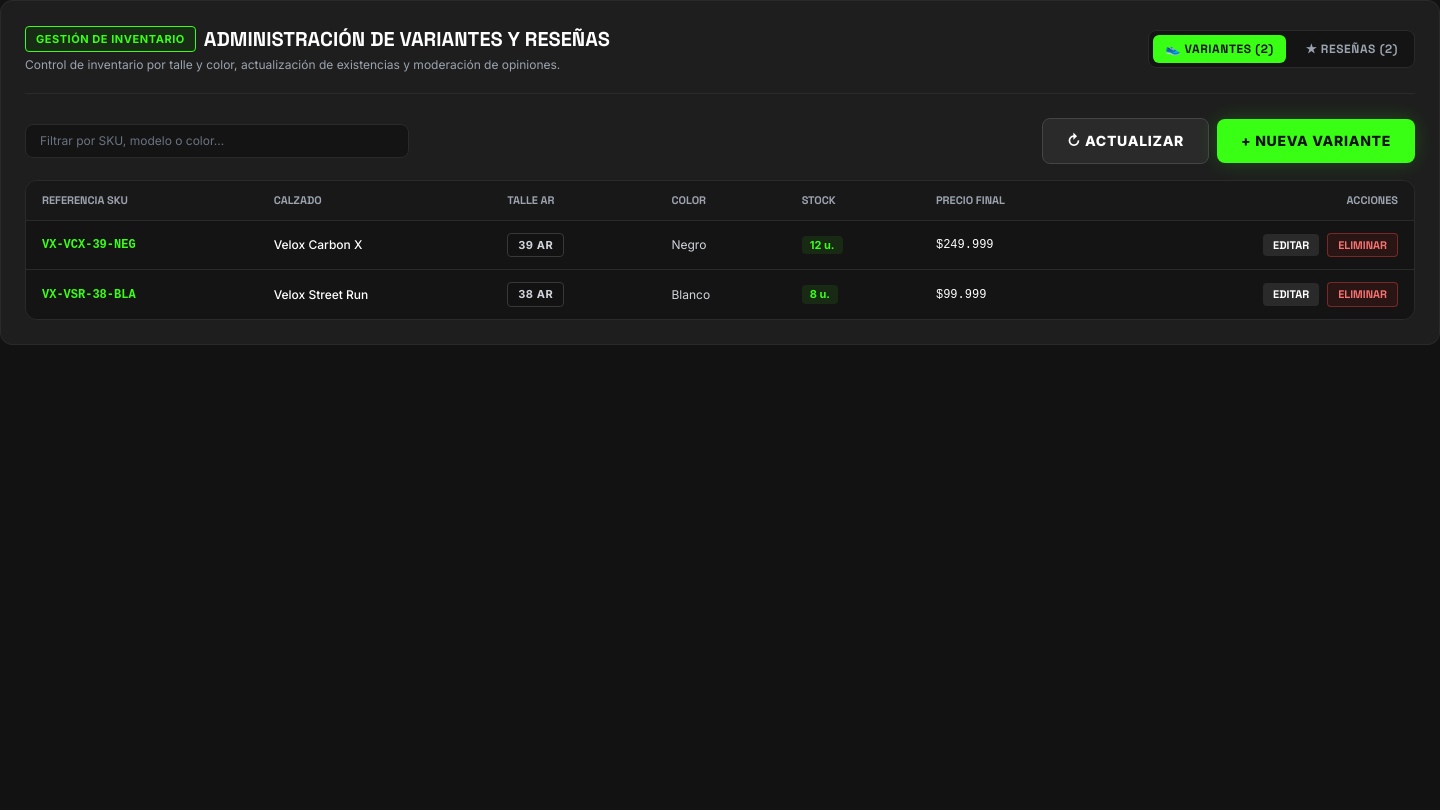
Test case: DashboardCrudManager - Gestión de Inventario y Reseñas › 3. Abre modal de alta y registra una nueva variante
The width and height of the screenshot is (1440, 810).
Expected: the text "VX-VCX-39-NEG" is shown, [26,220,258,270]
Click the button "+ NUEVA VARIANTE". click: coordinates (1316, 141)
box: [1217,119,1415,163]
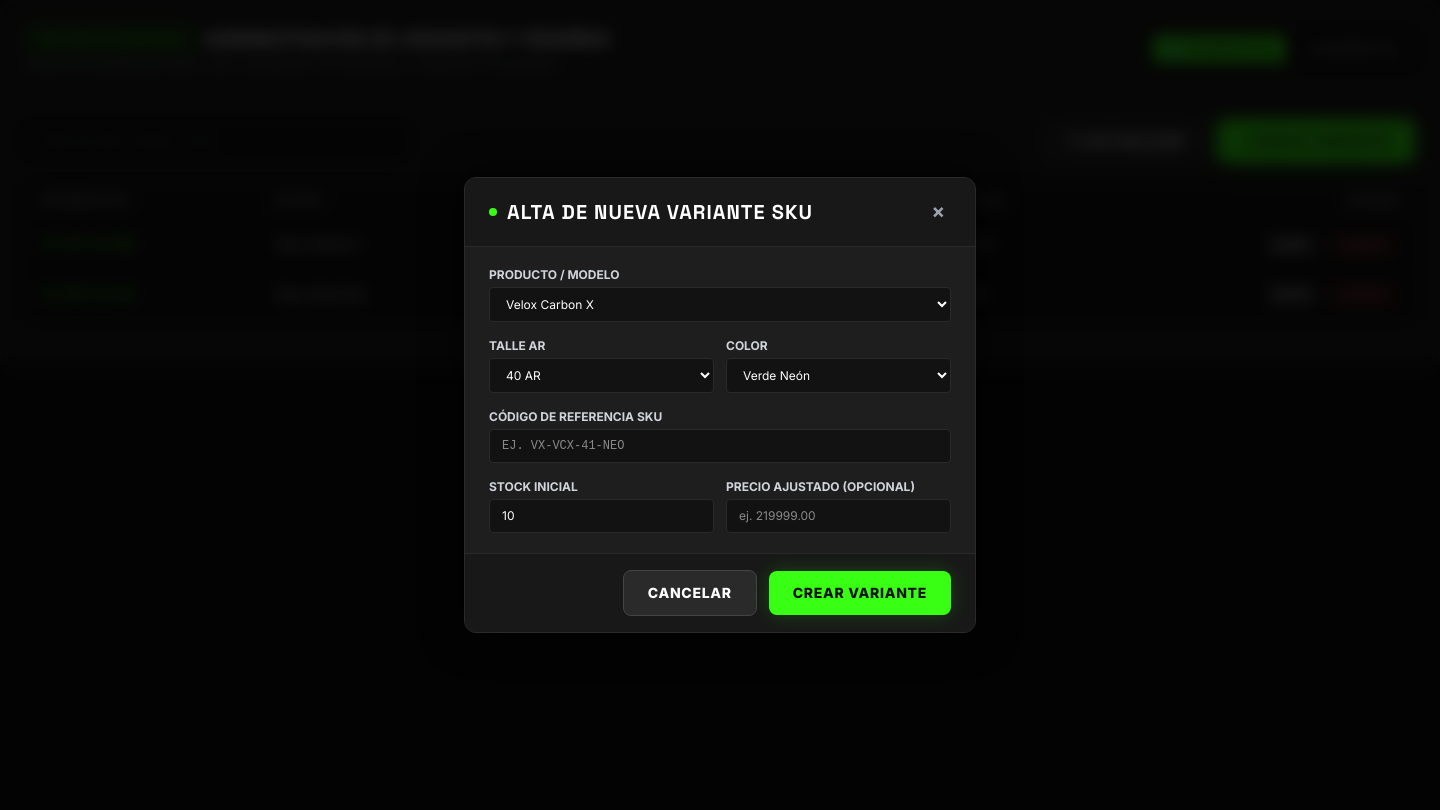
Expected: the dialog is shown
Expected: the heading "ALTA DE NUEVA VARIANTE SKU" is shown, [507,198,813,226]
Type "VX-NEW-42-NEO" into the field with placeholder "ej. VX-VCX-41-NEO". click: coordinates (720, 446)
box: [489,429,951,463]
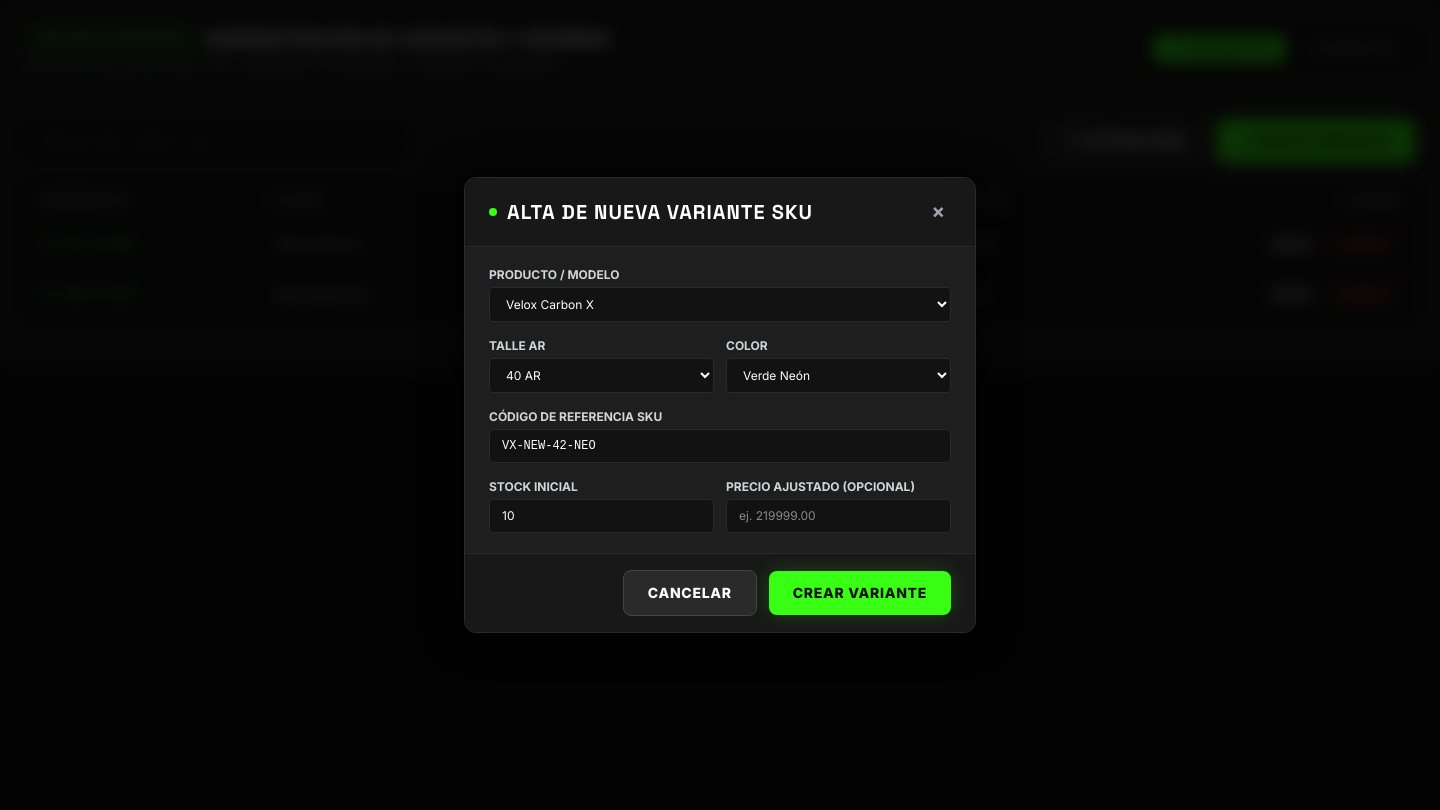
Click the button "CREAR VARIANTE". click: coordinates (860, 593)
box: [769,571,951,615]
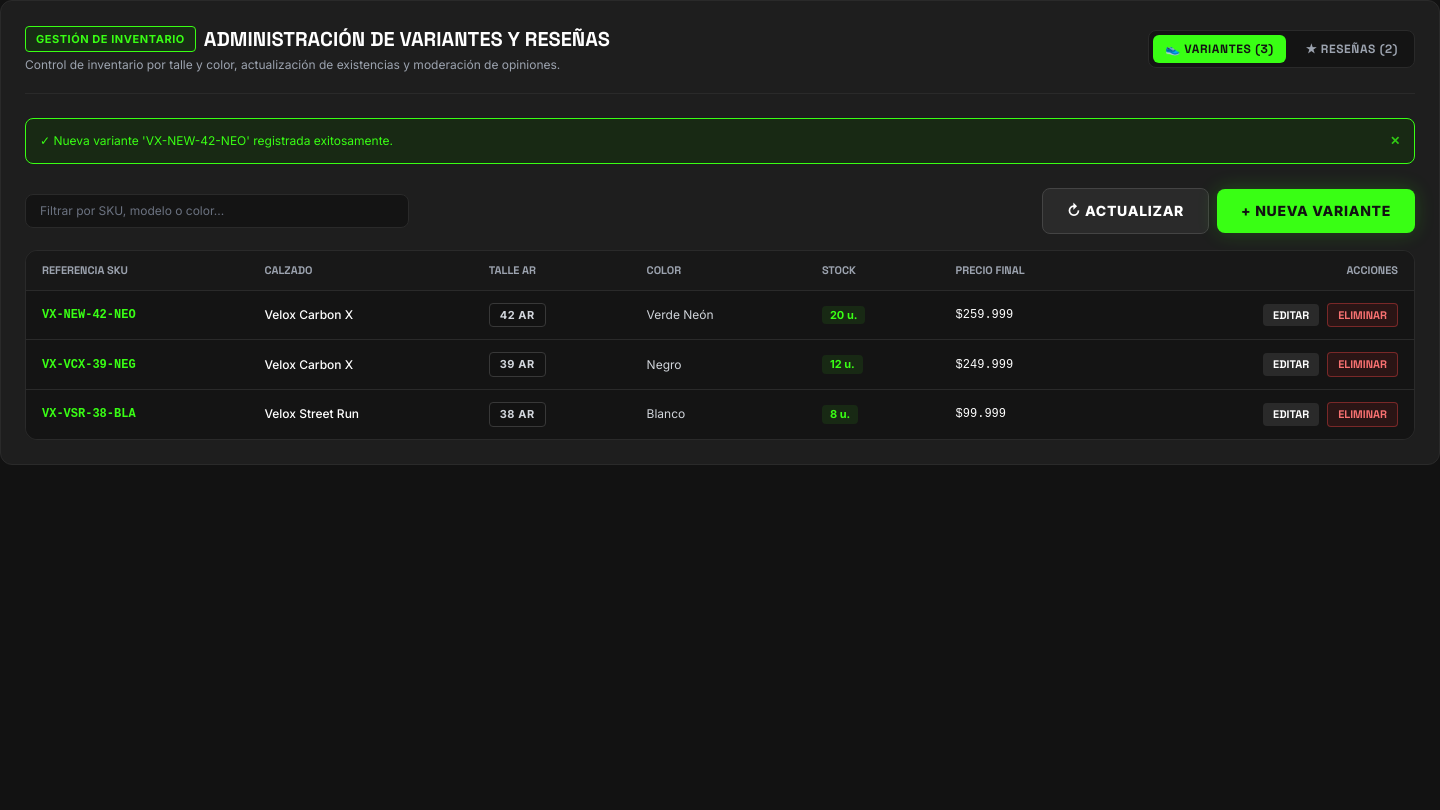
Expected: the text "VX-NEW-42-NEO" is shown, [26,290,248,340]
Expected: the text "✓ Nueva variante 'VX-NEW-42-NEO' registrada exitosamente." is shown, [40,133,393,149]
